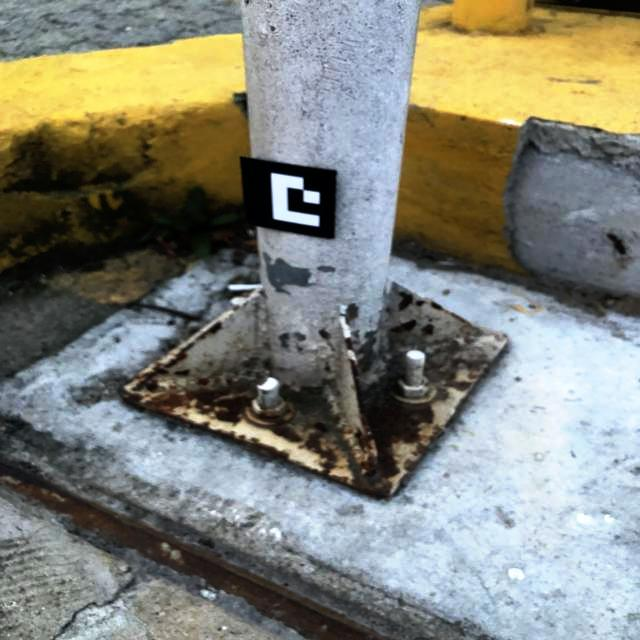Corrosion: (0, 459, 396, 640), (300, 358, 442, 499), (119, 380, 321, 475), (426, 312, 484, 402), (131, 342, 194, 392), (196, 322, 223, 341), (357, 349, 372, 373), (391, 319, 417, 332), (398, 291, 412, 311), (226, 378, 247, 391), (173, 369, 190, 377), (300, 385, 316, 393), (196, 377, 210, 386), (319, 329, 331, 339), (422, 325, 434, 335), (264, 359, 273, 372), (345, 337, 353, 351), (431, 302, 444, 310), (257, 378, 267, 385), (282, 383, 291, 390), (334, 415, 341, 422), (234, 305, 240, 311), (325, 367, 331, 372), (417, 301, 424, 305)
